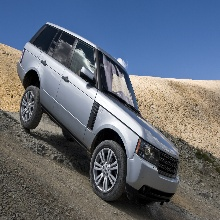no damage: (18, 22, 182, 205)
